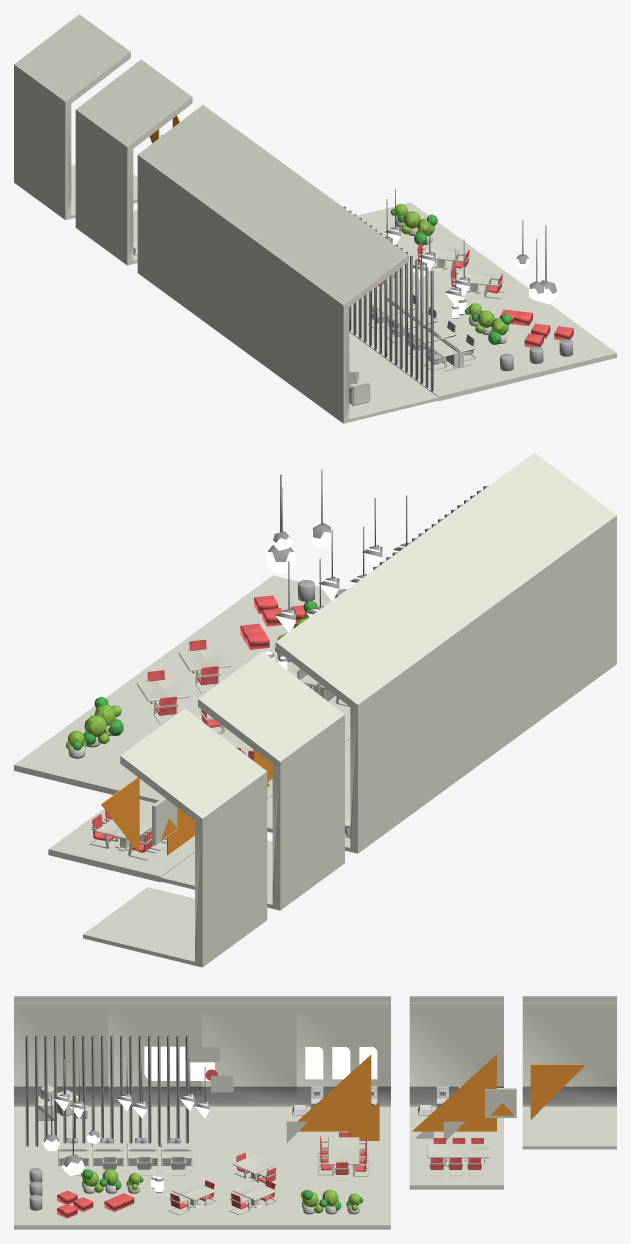
The model's file is office.glb.
3 views of the same model, one above another, from view 1: azimuth 30°, elevation 25°; view 2: azimuth 150°, elevation 25°; view 3: azimuth 270°, elevation 25° (orthographic). The views are drawn at different scales.
Parts seen in each view (by area): view 1: Corridor angled, Corridor angled 1, Platform 2, Platform 1, Wall lined, Platform 1.002, Table combined 2, Desk combined.003, Square table; view 2: Corridor angled 1, Corridor angled, Platform 2, Platform 1.002, Platform 1.001, Confrence table_combined, Triangle.001, Table combined 2, Square table, Square, Poly light, Platform 1 (+1 smaller); view 3: Corridor angled, Corridor angled 1, Platform 2, Wall lined, Platform 1, Platform 1.001, Platform 1.002, Triangle.003, Triangle, Confrence table_combined, Triangle.001, Wall panel 1 (+23 smaller).
Part boxes in pixels (x1,y1,x2,y2): Corridor angled: (189,142,438,423); Corridor angled 1: (14,14,254,310); Platform 2: (392,240,616,379); Platform 1: (349,276,527,401); Wall lined: (343,206,433,391); Platform 1.002: (356,202,461,253); Table combined 2: (417,242,470,272); Desk combined.003: (424,338,458,371); Square table: (453,266,495,295); Corridor angled 1: (83,595,422,967); Corridor angled: (340,452,616,805); Platform 2: (79,575,335,734); Platform 1.002: (14,717,148,794); Platform 1.001: (48,779,272,882); Confrence table_combined: (89,799,166,860); Triangle.001: (101,777,139,852); Table combined 2: (136,670,189,724); Square table: (178,648,231,681); Square: (152,797,177,845); Poly light: (266,474,295,574); Platform 1: (212,667,350,756); Corridor angled: (14,996,296,1145); Corridor angled 1: (296,996,616,1149); Platform 2: (14,1185,296,1229); Wall lined: (25,1036,188,1146); Platform 1: (14,1145,296,1185); Platform 1.001: (296,1145,503,1189); Platform 1.002: (296,1185,390,1229); Triangle.003: (297,1055,371,1131); Triangle: (412,1054,496,1131); Confrence table_combined: (427,1138,489,1176); Triangle.001: (530,1064,585,1119); Wall panel 1: (305,1047,377,1079).
Bounding box in the file's own units: 9.2 × 4.95 × 19.2.
